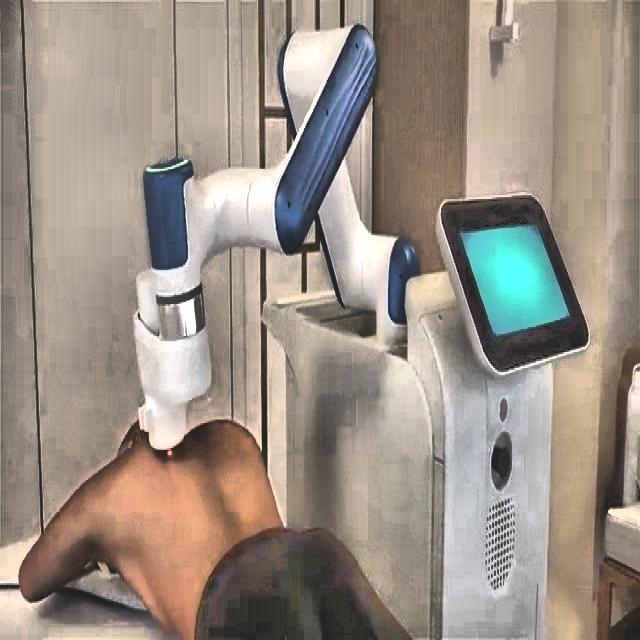robot: (131, 19, 422, 453)
